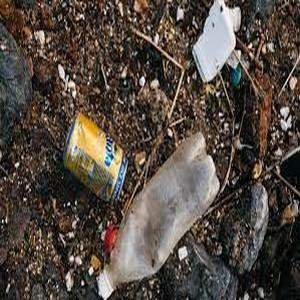Plastic: (98, 128, 227, 300)
